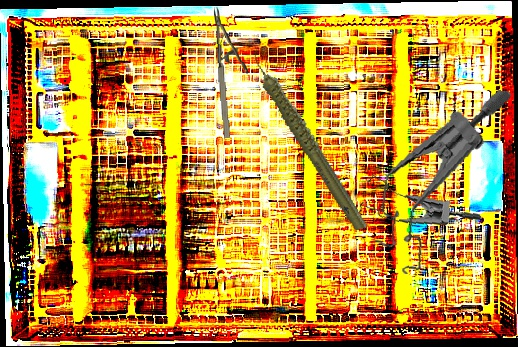Handpiece: (249, 33, 370, 245)
Needle Holder: (213, 5, 252, 139)
Speculum: (368, 75, 513, 286), (354, 161, 483, 237)
